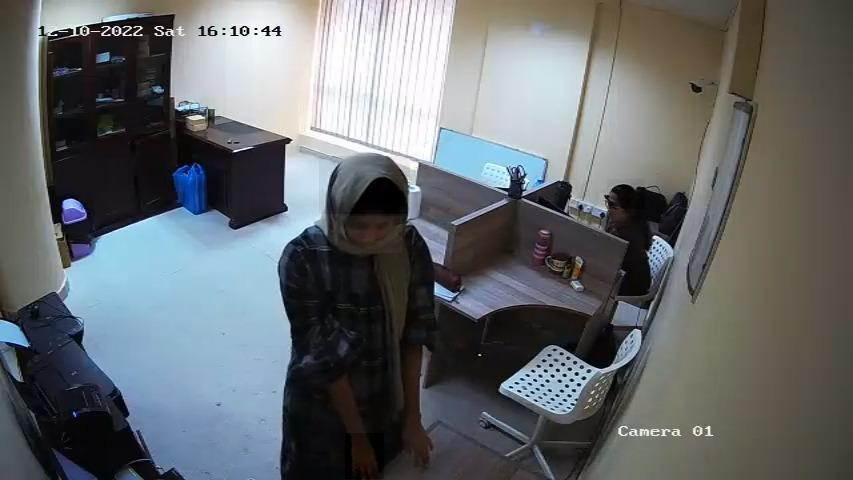no_apron: (345, 433, 384, 480), (402, 414, 436, 461)
no_gloves: (319, 157, 410, 215), (608, 180, 646, 210)
no_hairnet: (340, 217, 402, 254), (599, 194, 625, 221)
